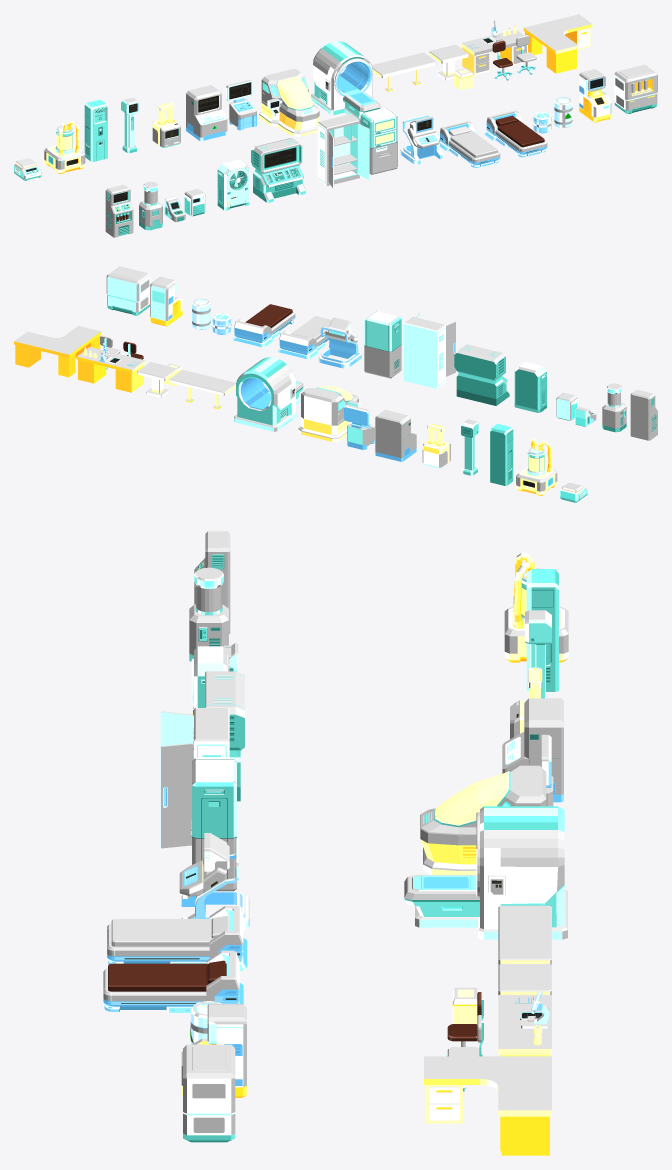
The model's file is Low_Poly_Sci-Fi_Laboratory_Props_Cosmic_Retro.glb.
The picture shows the model from 3 angles, top to bottom: view 1: azimuth 30°, elevation 25°; view 2: azimuth 150°, elevation 25°; view 3: azimuth 270°, elevation 25°; orthographic projection. The views are drawn at different scales.
Parts seen in each view (by area): view 1: Retro_laboratory_MRI_Scanner_Pod_Cosmic_Retro_Laboratory_Pro, Retro_laboratory_Operations_Console_Cosmic_Retro_Laboratory_, Retro_laboratory_Desk_1_Cosmic_Retro_Laboratory_Props_0, Retro_laboratory_Biohazard_Cabinet_Cosmic_Retro_Laboratory_P, Retro_laboratory_Medical_Pod_Closed_Cosmic_Retro_Laboratory_, Retro_laboratory_DataConsole_TypeA_Cosmic_Retro_Laboratory_P, Retro_laboratory_Medical_Bed_Compact_2_Cosmic_Retro_Laborato, Retro_laboratory_Specimen_Chamber_Cosmic_Retro_Laboratory_Pr, Retro_laboratory_Medical_Bed_Compact_Cosmic_Retro_Laboratory, Retro_laboratory_Hazard_Storage_Unit_Cosmic_Retro_Laboratory, Retro_laboratory_Air_Filter_Tower_Cosmic_Retro_Laboratory_Pr, Retro_laboratory_XRay_Monitor_Unit_Cosmic_Retro_Laboratory_P (+20 smaller); view 2: Retro_laboratory_MRI_Scanner_Pod_Cosmic_Retro_Laboratory_Pro, Retro_laboratory_Biohazard_Cabinet_Cosmic_Retro_Laboratory_P, Retro_laboratory_Operations_Console_Cosmic_Retro_Laboratory_, Retro_laboratory_Desk_1_Cosmic_Retro_Laboratory_Props_0, Retro_laboratory_Hazard_Storage_Unit_Cosmic_Retro_Laboratory, Retro_laboratory_Medical_Pod_Closed_Cosmic_Retro_Laboratory_, Retro_laboratory_Specimen_Chamber_Cosmic_Retro_Laboratory_Pr, Retro_laboratory_Desk_2_Cosmic_Retro_Laboratory_Props_0, Retro_laboratory_DataConsole_TypeA_Cosmic_Retro_Laboratory_P, Retro_laboratory_Medical_Bed_Compact_2_Cosmic_Retro_Laborato, Retro_laboratory_Air_Filter_Tower_Cosmic_Retro_Laboratory_Pr, Retro_laboratory_XRay_Monitor_Unit_Cosmic_Retro_Laboratory_P (+15 smaller); view 3: Retro_laboratory_MRI_Scanner_Pod_Cosmic_Retro_Laboratory_Pro, Retro_laboratory_Desk_1_Cosmic_Retro_Laboratory_Props_0, Retro_laboratory_Medical_Bed_Compact_2_Cosmic_Retro_Laborato, Retro_laboratory_Medical_Bed_Compact_Cosmic_Retro_Laboratory, Retro_laboratory_Specimen_Chamber_Cosmic_Retro_Laboratory_Pr, Retro_laboratory_Medical_Pod_Closed_Cosmic_Retro_Laboratory_, Retro_laboratory_Hazard_Storage_Unit_Cosmic_Retro_Laboratory, Retro_laboratory_DataConsole_TypeA_Cosmic_Retro_Laboratory_P, Retro_laboratory_XRay_Monitor_Unit_Cosmic_Retro_Laboratory_P, Biohazard_Cabinet_Door_2_Cosmic_Retro_Laboratory_Props_0, Retro_laboratory_Table_2_Cosmic_Retro_Laboratory_Props_0, Retro_laboratory_Desk_2_Cosmic_Retro_Laboratory_Props_0 (+13 smaller).
Part boxes in pixels (box(x1,y1,x2,y2)): Retro_laboratory_MRI_Scanner_Pod_Cosmic_Retro_Laboratory_Pro: box(311, 41, 380, 123); Retro_laboratory_Operations_Console_Cosmic_Retro_Laboratory_: box(251, 138, 306, 202); Retro_laboratory_Desk_1_Cosmic_Retro_Laboratory_Props_0: box(523, 14, 592, 73); Retro_laboratory_Biohazard_Cabinet_Cosmic_Retro_Laboratory_P: box(317, 114, 359, 185); Retro_laboratory_Medical_Pod_Closed_Cosmic_Retro_Laboratory_: box(258, 69, 319, 136); Retro_laboratory_DataConsole_TypeA_Cosmic_Retro_Laboratory_P: box(186, 85, 227, 141); Retro_laboratory_Medical_Bed_Compact_2_Cosmic_Retro_Laborato: box(484, 110, 547, 157); Retro_laboratory_Specimen_Chamber_Cosmic_Retro_Laboratory_Pr: box(614, 64, 657, 113); Retro_laboratory_Medical_Bed_Compact_Cosmic_Retro_Laboratory: box(440, 121, 500, 167); Retro_laboratory_Hazard_Storage_Unit_Cosmic_Retro_Laboratory: box(360, 107, 397, 174); Retro_laboratory_Air_Filter_Tower_Cosmic_Retro_Laboratory_Pr: box(217, 159, 249, 210); Retro_laboratory_XRay_Monitor_Unit_Cosmic_Retro_Laboratory_P: box(400, 115, 444, 164); Retro_laboratory_MRI_Scanner_Pod_Cosmic_Retro_Laboratory_Pro: box(234, 357, 303, 431); Retro_laboratory_Biohazard_Cabinet_Cosmic_Retro_Laboratory_P: box(403, 317, 445, 388); Retro_laboratory_Operations_Console_Cosmic_Retro_Laboratory_: box(454, 344, 509, 405); Retro_laboratory_Desk_1_Cosmic_Retro_Laboratory_Props_0: box(14, 326, 101, 377); Retro_laboratory_Hazard_Storage_Unit_Cosmic_Retro_Laboratory: box(364, 311, 401, 378); Retro_laboratory_Medical_Pod_Closed_Cosmic_Retro_Laboratory_: box(298, 388, 360, 441); Retro_laboratory_Specimen_Chamber_Cosmic_Retro_Laboratory_Pr: box(106, 266, 150, 315); Retro_laboratory_Desk_2_Cosmic_Retro_Laboratory_Props_0: box(76, 347, 145, 392); Retro_laboratory_DataConsole_TypeA_Cosmic_Retro_Laboratory_P: box(375, 410, 416, 461); Retro_laboratory_Medical_Bed_Compact_2_Cosmic_Retro_Laborato: box(232, 304, 295, 347); Retro_laboratory_Air_Filter_Tower_Cosmic_Retro_Laboratory_Pr: box(514, 362, 546, 412); Retro_laboratory_XRay_Monitor_Unit_Cosmic_Retro_Laboratory_P: box(318, 317, 362, 368); Retro_laboratory_MRI_Scanner_Pod_Cosmic_Retro_Laboratory_Pro: box(404, 806, 567, 939); Retro_laboratory_Desk_1_Cosmic_Retro_Laboratory_Props_0: box(424, 1056, 551, 1155); Retro_laboratory_Medical_Bed_Compact_2_Cosmic_Retro_Laborato: box(103, 950, 243, 1012); Retro_laboratory_Medical_Bed_Compact_Cosmic_Retro_Laboratory: box(107, 906, 247, 970); Retro_laboratory_Specimen_Chamber_Cosmic_Retro_Laboratory_Pr: box(183, 1044, 235, 1142); Retro_laboratory_Medical_Pod_Closed_Cosmic_Retro_Laboratory_: box(420, 765, 546, 874); Retro_laboratory_Hazard_Storage_Unit_Cosmic_Retro_Laboratory: box(191, 758, 236, 891); Retro_laboratory_DataConsole_TypeA_Cosmic_Retro_Laboratory_P: box(502, 698, 563, 802); Retro_laboratory_XRay_Monitor_Unit_Cosmic_Retro_Laboratory_P: box(179, 833, 249, 929); Biohazard_Cabinet_Door_2_Cosmic_Retro_Laboratory_Props_0: box(160, 743, 193, 848); Retro_laboratory_Table_2_Cosmic_Retro_Laboratory_Props_0: box(498, 905, 551, 964); Retro_laboratory_Desk_2_Cosmic_Retro_Laboratory_Props_0: box(498, 995, 551, 1056).
Size of the model in its own units: 20.38 by 2 by 7.28.
Materials: 2 (2 with a texture image).
